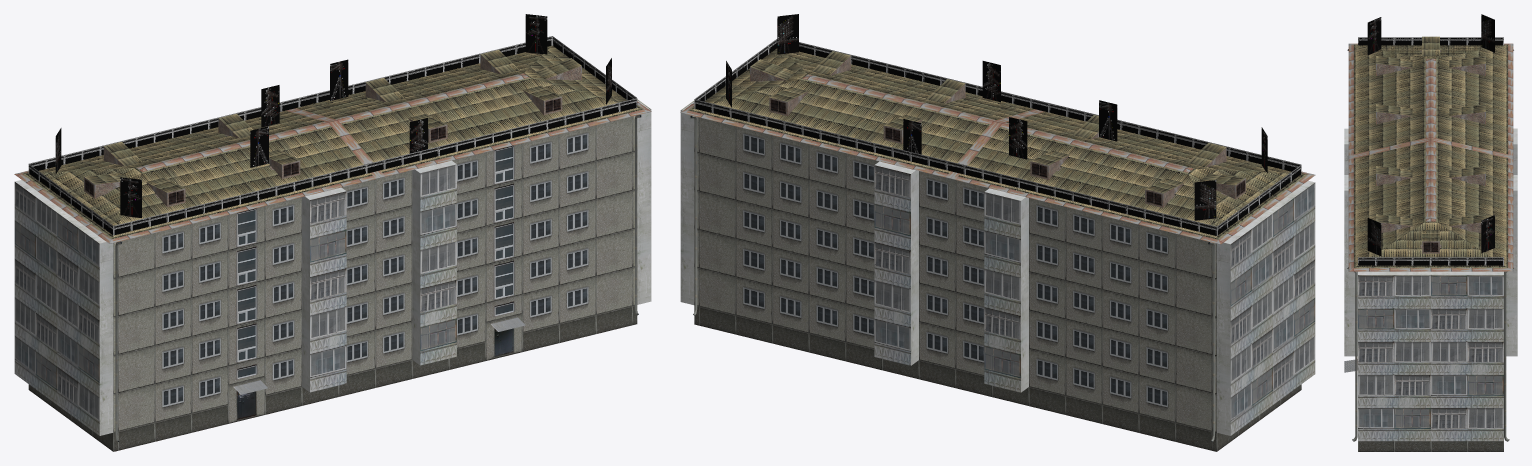
Rendered from rus_build_5et_02a.fbx.
3 views of the same model, side by side, from view 1: azimuth 30°, elevation 25°; view 2: azimuth 150°, elevation 25°; view 3: azimuth 270°, elevation 25° (orthographic). The views are drawn at different scales.
Visible parts, largest first — view 1: Regroup13, rus_build_dec_01; view 2: Regroup13, rus_build_dec_01; view 3: Regroup13, rus_build_dec_01.
Boxes of the visible parts, left/top/right/bottom form: Regroup13: left=14, top=45, right=651, bottom=451; rus_build_dec_01: left=28, top=14, right=637, bottom=235; Regroup13: left=680, top=48, right=1315, bottom=451; rus_build_dec_01: left=694, top=14, right=1301, bottom=235; Regroup13: left=1344, top=36, right=1517, bottom=451; rus_build_dec_01: left=1358, top=14, right=1503, bottom=265.
Bounding box in the file's own units: 4200 × 1925 × 1330.
